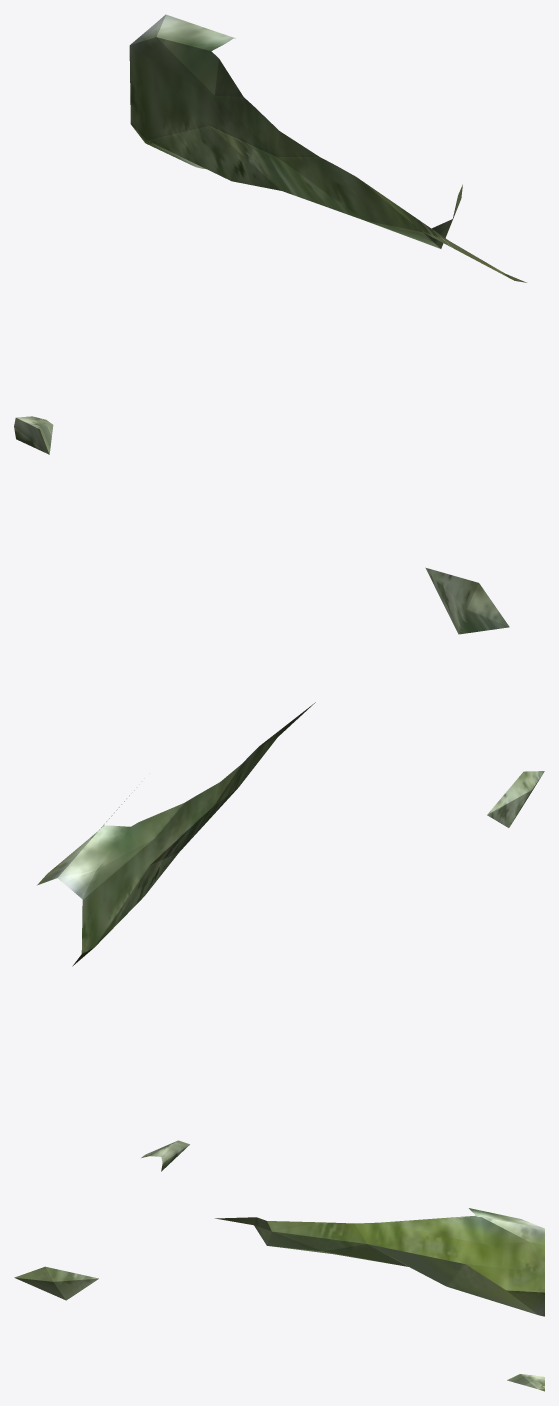
3 views of the same model, one above another, from view 1: azimuth 30°, elevation 25°; view 2: azimuth 150°, elevation 25°; view 3: azimuth 270°, elevation 25° (orthographic). The views are drawn at different scales.
Bounding box in the file's own units: 0.6584 × 1.02 × 2.34.
Materials: 1 (1 with a texture image).
